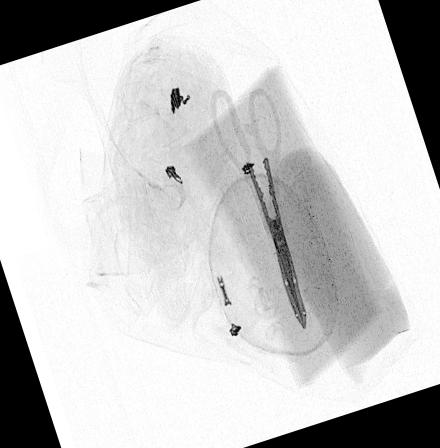Scissors: (209, 87, 307, 332)
